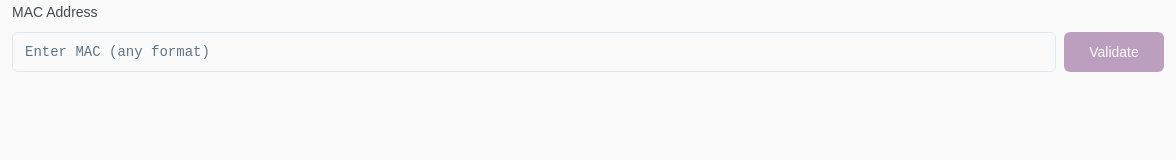
it: MacValidator › input normalization › normalizes input as user types
Step 1. Type "aabbcc" into the field with placeholder "Enter MAC (any format)" → (534, 52), box [12, 32, 1056, 72]
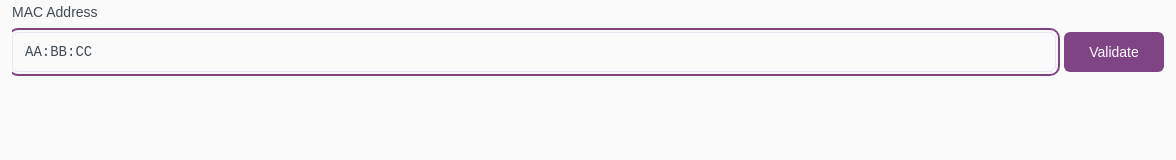
Check: the field with placeholder "Enter MAC (any format)" holds "AA:BB:CC", box [12, 32, 1056, 72]
